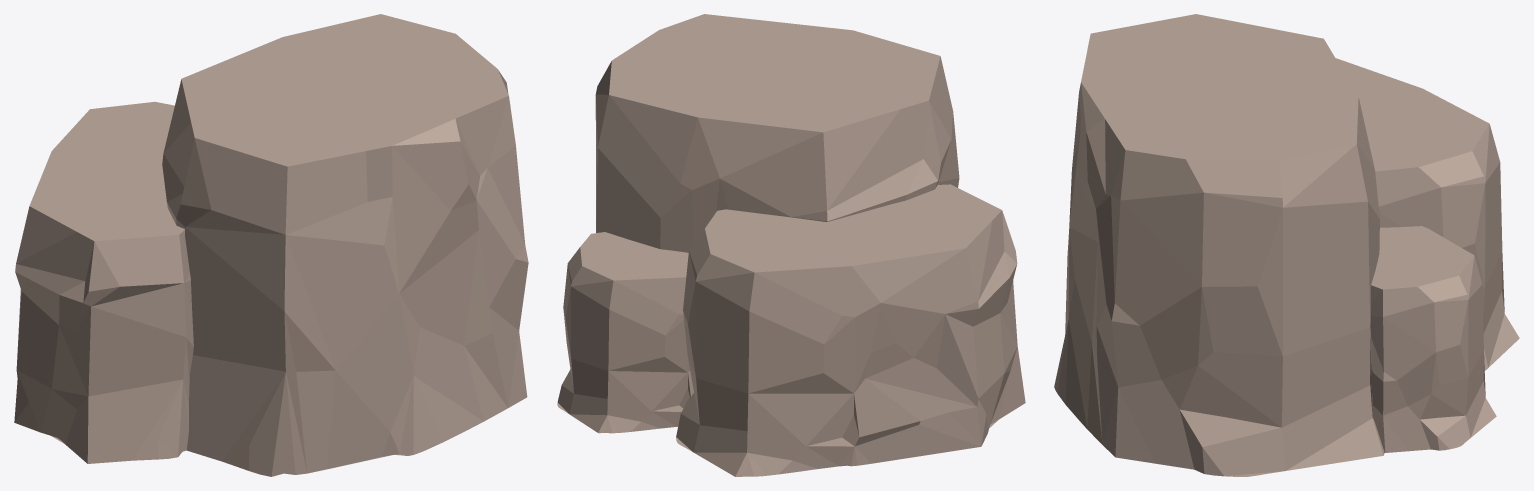
Rendered from pride_rock.fbx.
The picture shows the model from 3 angles, left to right: view 1: azimuth 30°, elevation 25°; view 2: azimuth 150°, elevation 25°; view 3: azimuth 270°, elevation 25°; orthographic projection. The views are drawn at different scales.
Visible parts, largest first — view 1: polySurface2, polySurface1; view 2: polySurface1, polySurface2, polySurface3; view 3: polySurface2, polySurface3, polySurface1.
Part boxes in pixels (box(x1,y1,x2,y2)): polySurface2: box(162, 14, 528, 476); polySurface1: box(14, 101, 193, 463); polySurface1: box(676, 184, 1025, 476); polySurface2: box(595, 14, 959, 252); polySurface3: box(557, 232, 693, 433); polySurface2: box(1054, 14, 1384, 476); polySurface3: box(1370, 226, 1496, 452); polySurface1: box(1335, 58, 1519, 370).
Size of the model in its own units: 33.06 by 21.1 by 29.59.
